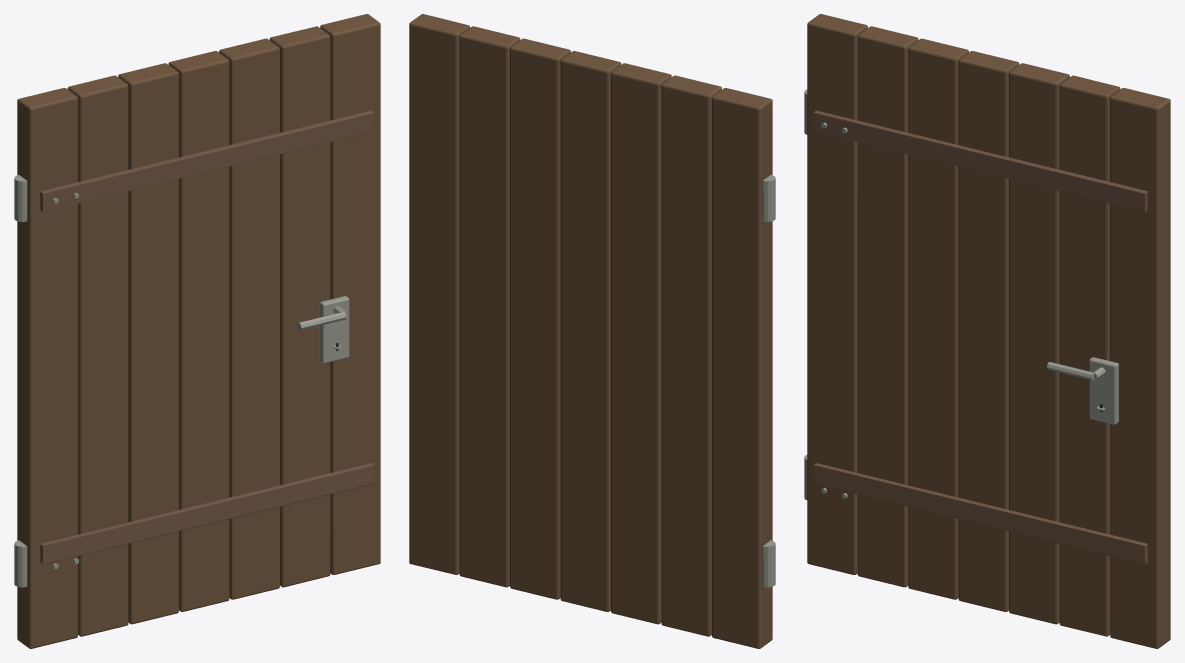
The model's file is door_wood_low.glb.
The picture shows the model from 3 angles, left to right: view 1: azimuth 30°, elevation 25°; view 2: azimuth 150°, elevation 25°; view 3: azimuth 330°, elevation 25°; orthographic projection.
Visible parts, largest first — view 1: door_wood.001; view 2: door_wood.001; view 3: door_wood.001.
Part boxes in pixels (x1,y1,x2,y2): door_wood.001: (14, 14, 380, 648); door_wood.001: (409, 14, 775, 648); door_wood.001: (804, 14, 1170, 648).
Size of the model in its own units: 1.75 by 2.52 by 0.2455.
